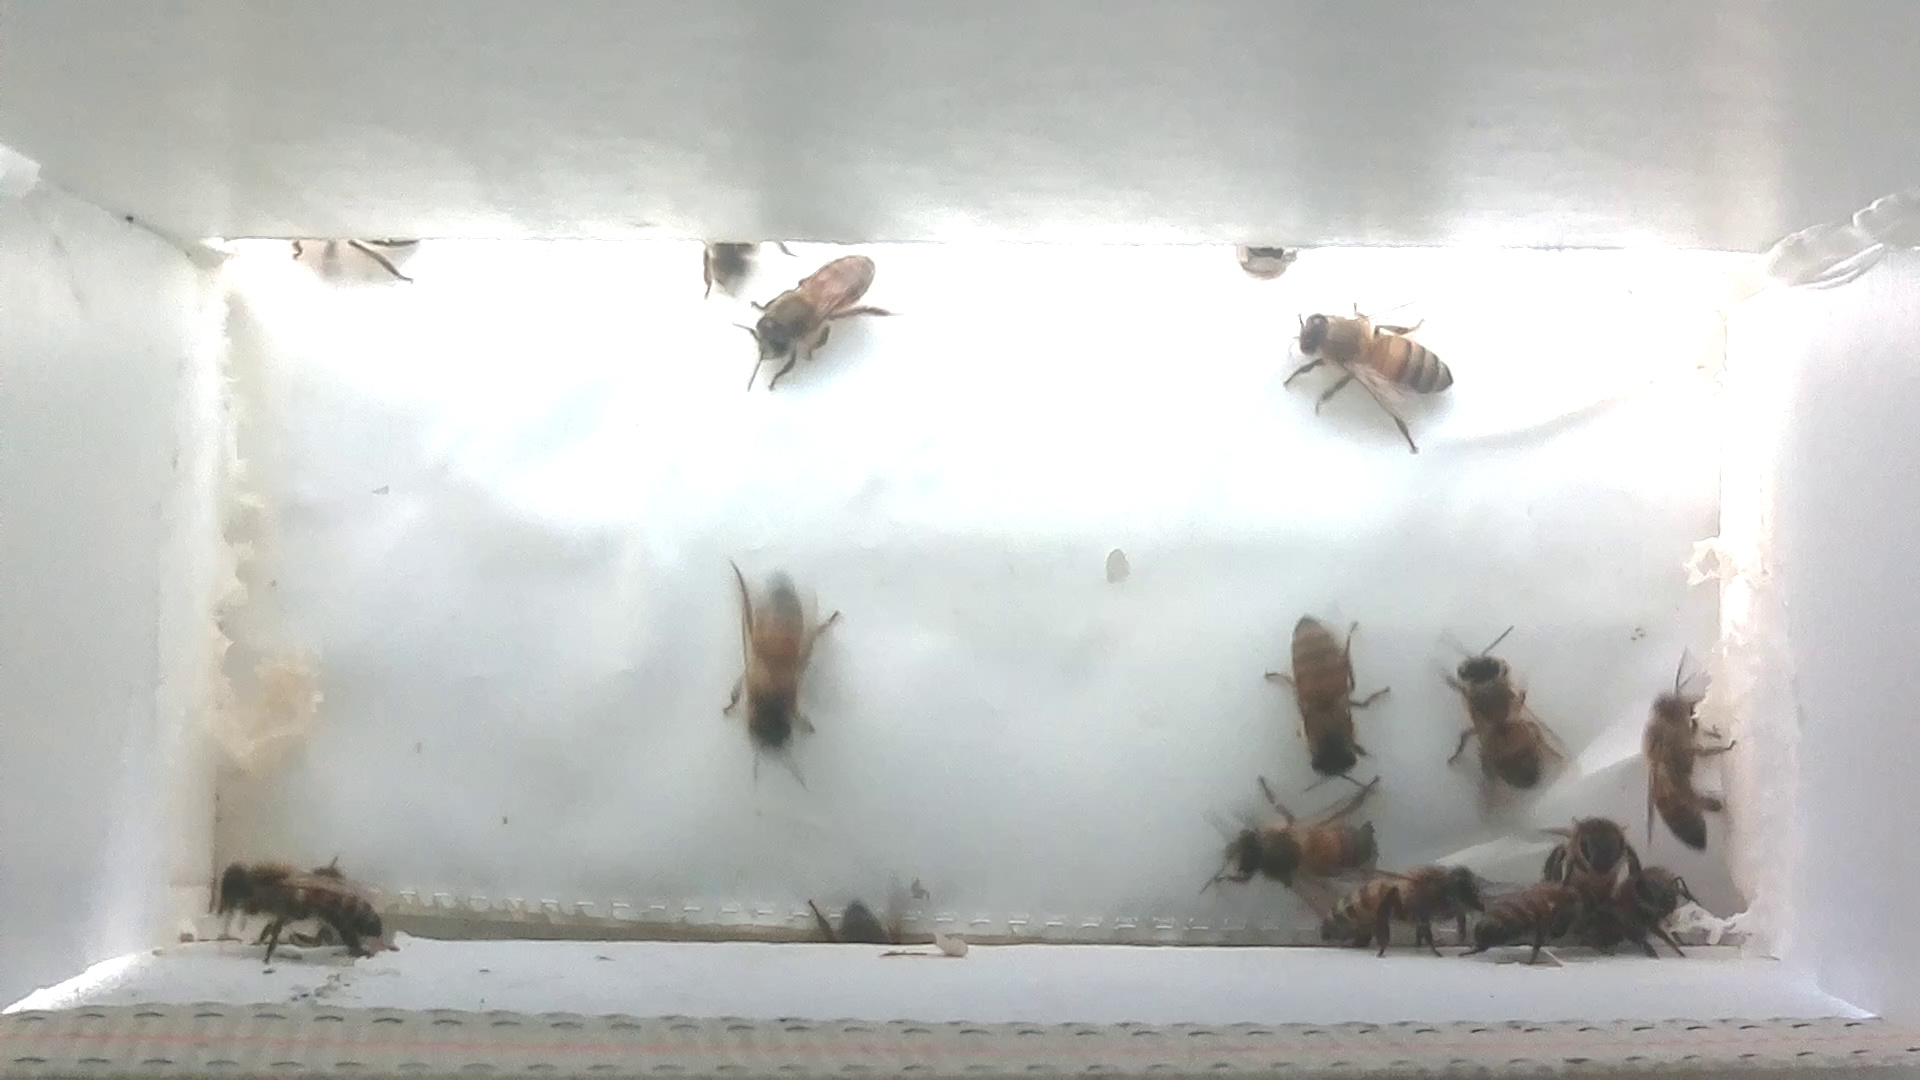bee: (1265, 301, 1465, 448), (711, 553, 844, 771), (1241, 599, 1385, 793), (1195, 773, 1393, 905), (1618, 666, 1745, 862), (1433, 629, 1571, 804), (731, 244, 898, 382), (198, 847, 386, 964), (1308, 849, 1489, 959), (1481, 866, 1610, 961), (1604, 860, 1701, 960), (1544, 803, 1635, 890), (1215, 241, 1319, 294)
